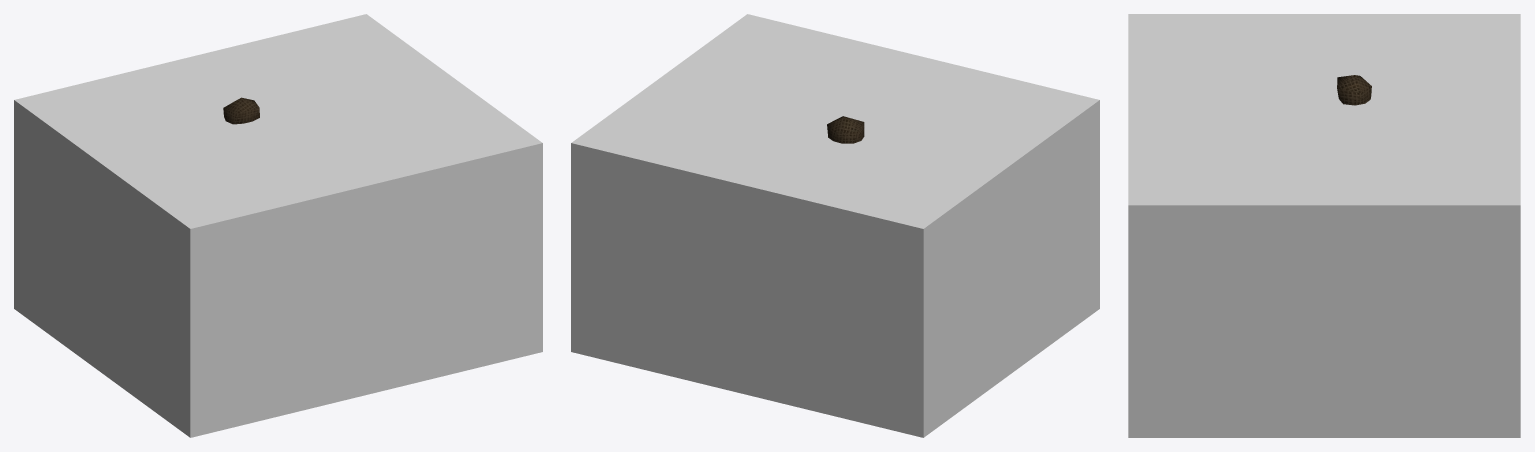
The model's file is sack_pile_intact.glb.
3 views of the same model, side by side, from view 1: azimuth 30°, elevation 25°; view 2: azimuth 150°, elevation 25°; view 3: azimuth 270°, elevation 25° (orthographic). The views are drawn at different scales.
Visible parts, largest first — view 1: col_click, col_sack_pile, sack_pile_intact; view 2: col_click, sack_pile_intact, col_sack_pile; view 3: col_click, col_sack_pile, sack_pile_intact.
Part boxes in pixels (x1=…): col_click: x1=14, y1=14, x2=542, y2=437; col_sack_pile: x1=156, y1=30, x2=393, y2=207; sack_pile_intact: x1=223, y1=97, x2=259, y2=124; col_click: x1=571, y1=14, x2=1099, y2=437; sack_pile_intact: x1=827, y1=116, x2=864, y2=143; col_sack_pile: x1=703, y1=29, x2=918, y2=75; col_click: x1=1128, y1=14, x2=1520, y2=437; col_sack_pile: x1=1158, y1=26, x2=1490, y2=192; sack_pile_intact: x1=1337, y1=75, x2=1371, y2=105.
Bounding box in the file's own units: 1.5 × 0.9301 × 1.3.
2 materials, 2 textured.
